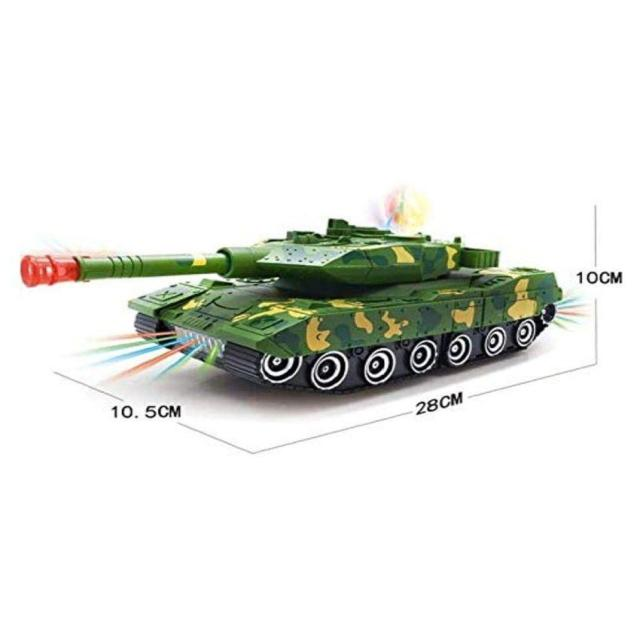Tanks: (8, 127, 570, 399)
